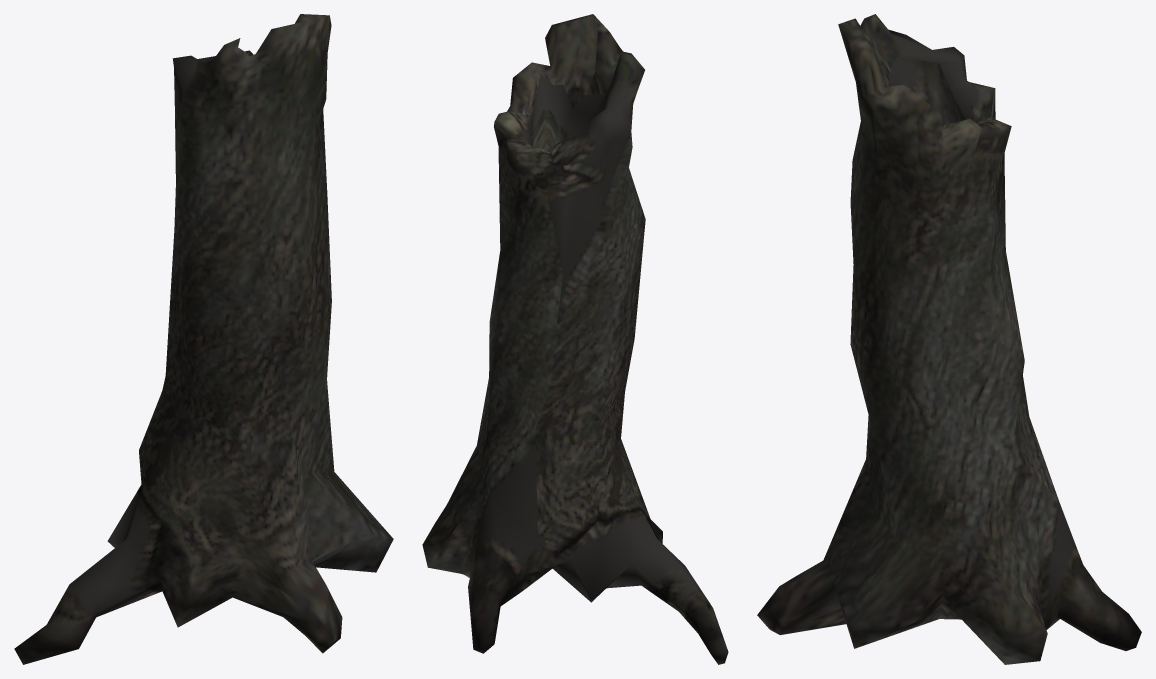
Rendered from deadtree2.glb.
3 views of the same model, side by side, from view 1: azimuth 30°, elevation 25°; view 2: azimuth 150°, elevation 25°; view 3: azimuth 270°, elevation 25° (orthographic). The views are drawn at different scales.
Visible parts, largest first — view 1: DeadTree2; view 2: DeadTree2; view 3: DeadTree2.
Part boxes in pixels (x1,y1,x2,y2): DeadTree2: (14, 14, 393, 664); DeadTree2: (422, 14, 728, 664); DeadTree2: (757, 14, 1141, 664).
Bounding box in the file's own units: 1.21 × 2.29 × 1.23.
1 material, 1 textured.
